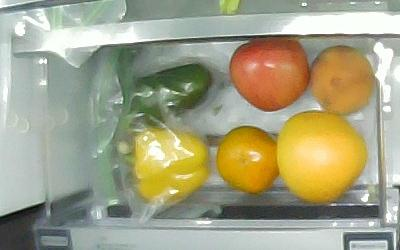apple: (230, 39, 309, 112)
grapefruit: (276, 111, 367, 204)
paprika_vinyl: (124, 127, 210, 205), (126, 63, 213, 129)
peach: (310, 46, 374, 116)
persimmon: (217, 126, 279, 195)
